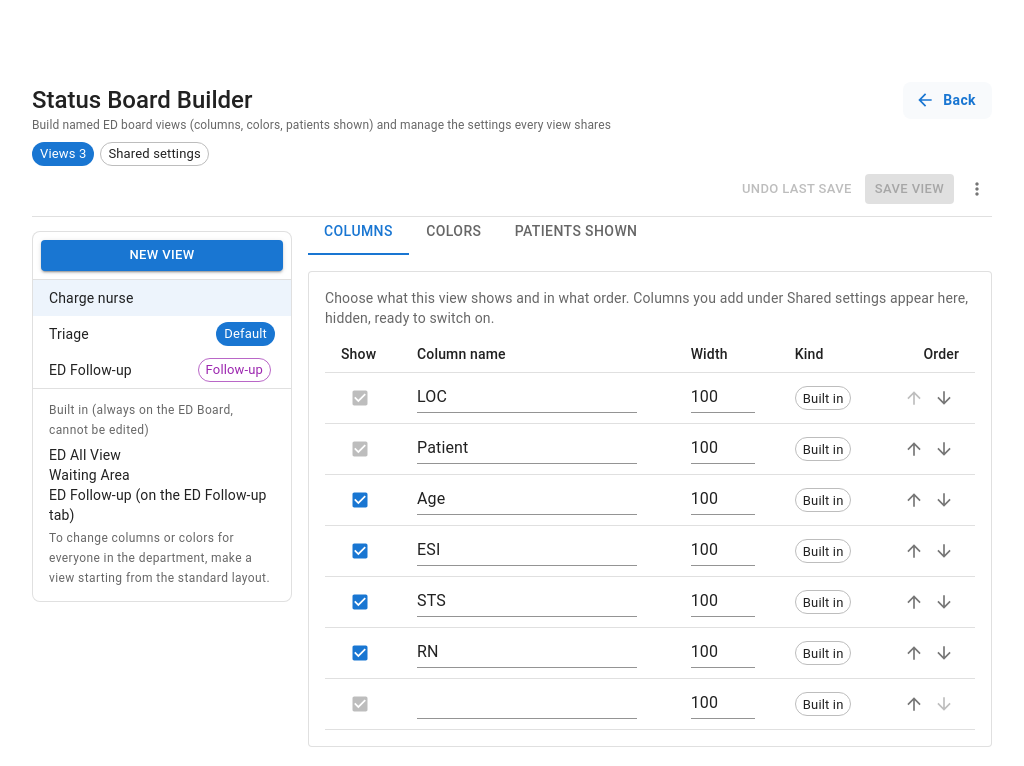
Test: follow-up views › Patients shown has no bed choices, just the conditions
Expected: the button with test id "view-item-1" is shown, [33, 280, 291, 316]
Click the button with test id "view-item-3": (90, 370) [33, 352, 291, 388]
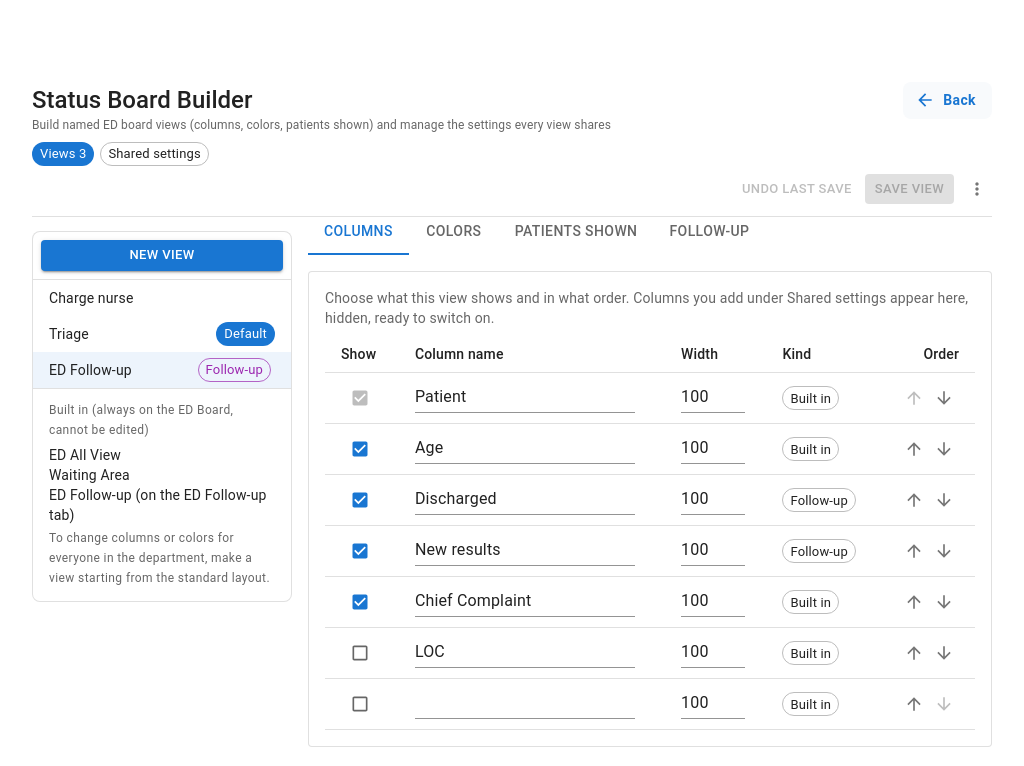
Click the tab "Patients shown": (576, 231) [499, 207, 653, 255]
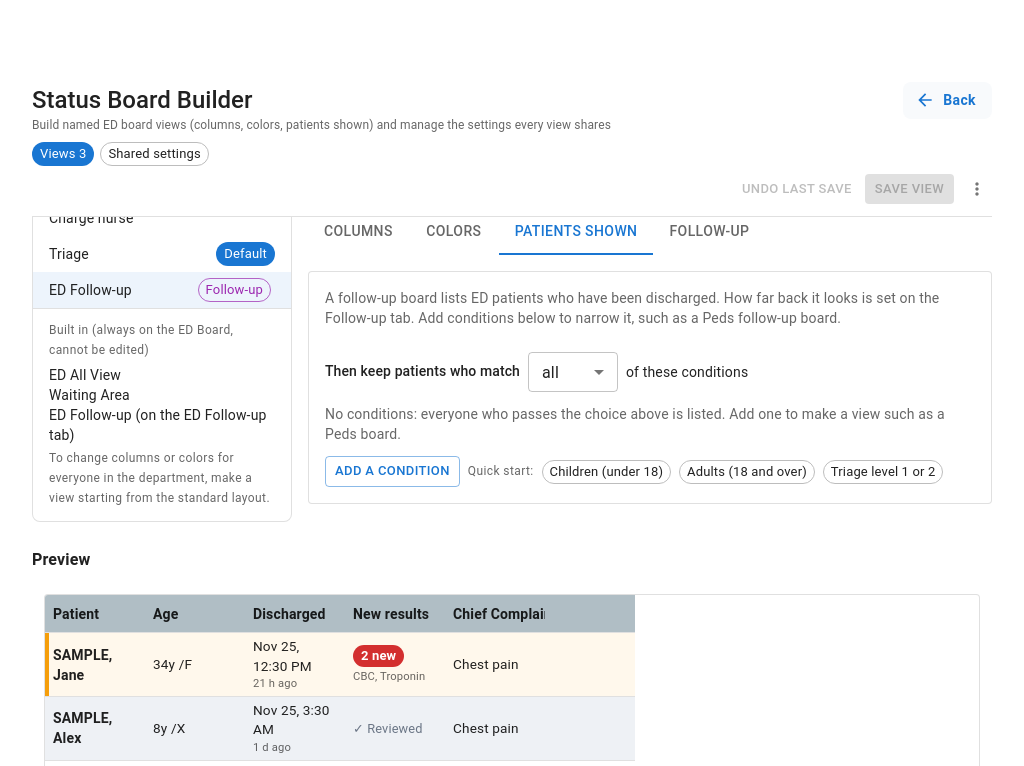
Expected: the text with test id "follow-up-patients" is shown, [325, 288, 975, 328]
Expected: the element with test id "conditions-editor" is shown, [325, 352, 975, 487]
